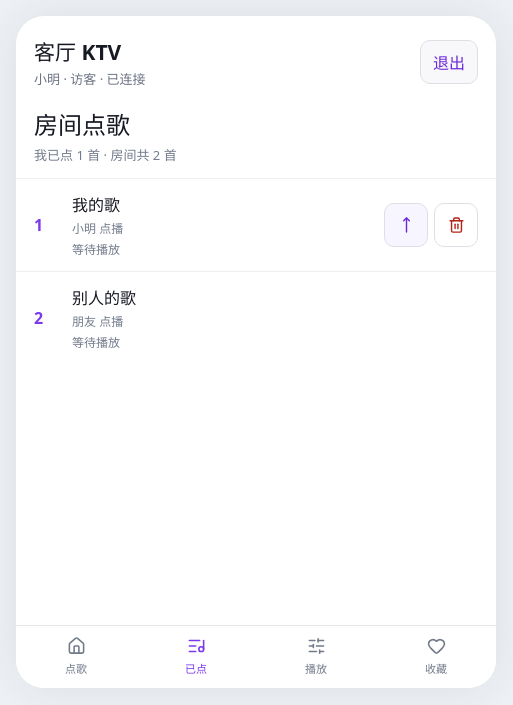
Scenario: mobile application shell › lists the room queue but only allows changes to my waiting songs
Expected: the text "我的歌" is shown, [72,194,120,216]
Expected: the text "别人的歌" is shown, [72,287,136,309]
Click the button named "删除 我的歌" at (456, 225), box [434,203,478,247]
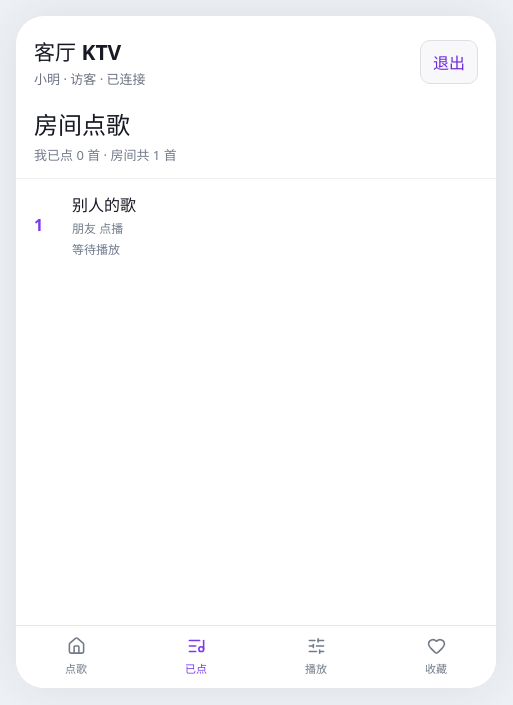
Expected: the text "我的歌" is gone
